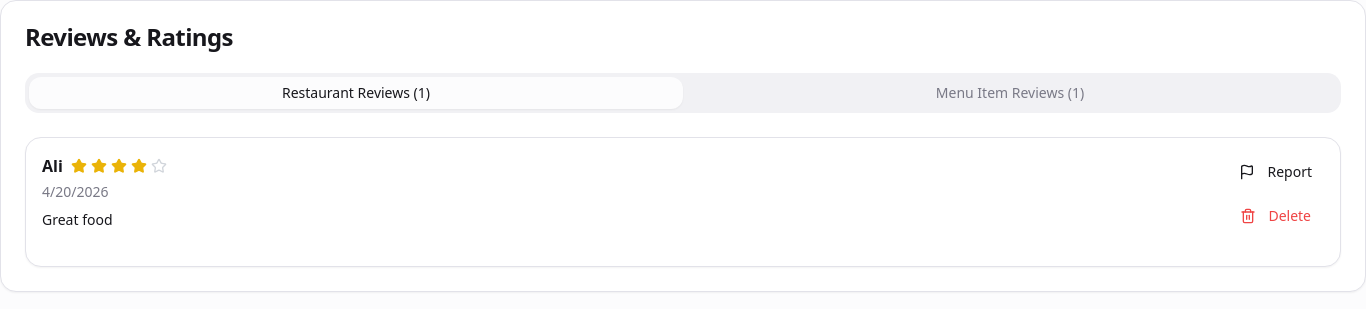
it: ReviewManagement › renders both review tabs and their counts
The width and height of the screenshot is (1366, 309).
Expected: the tab "Restaurant Reviews (1)" is shown, [29,77,683,109]
Click the tab "Menu Item Reviews (1)". click: (1010, 93)
box: [683,77,1337,109]
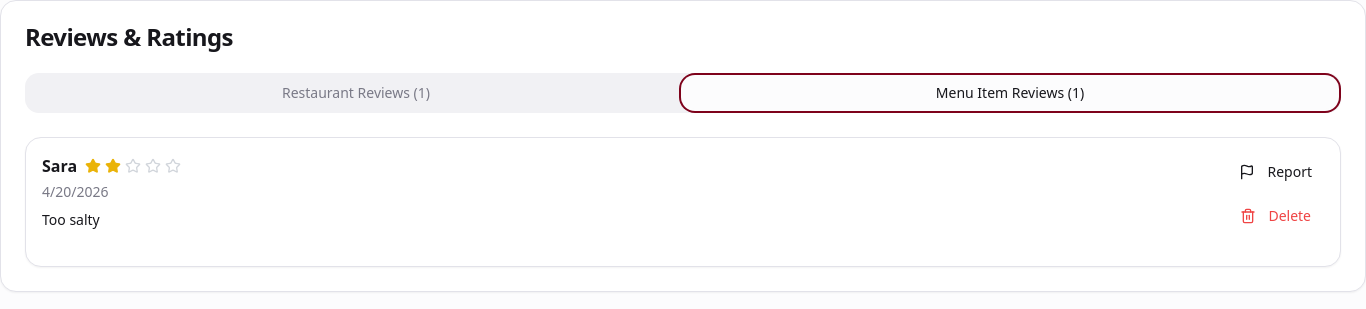
Result: the text "Too salty" is shown at [42,210,100,229]
